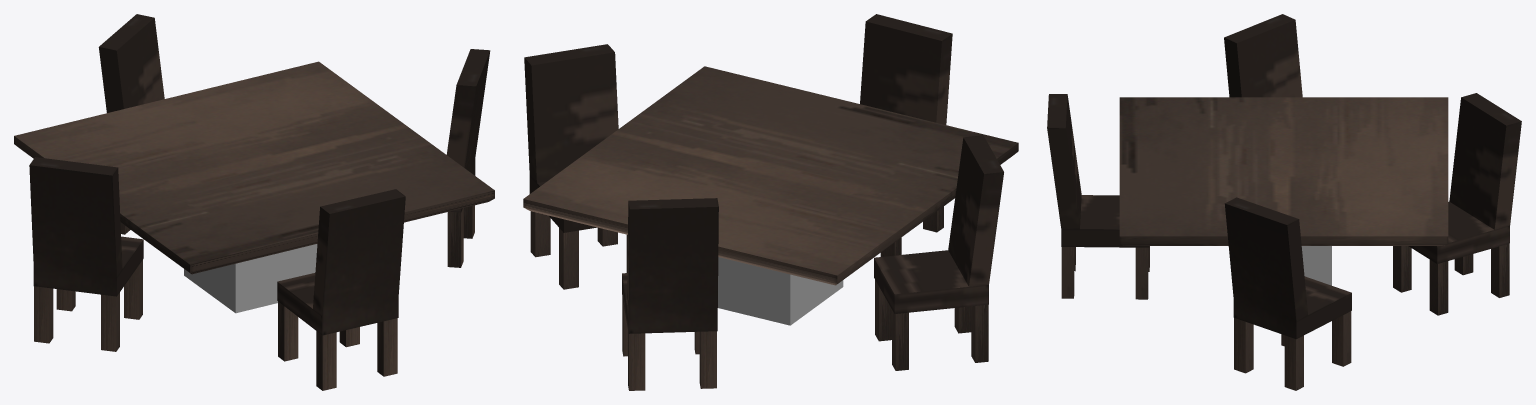
File: BarTable_Unwrapped.fbx
The picture shows the model from 3 angles, left to right: view 1: azimuth 30°, elevation 25°; view 2: azimuth 150°, elevation 25°; view 3: azimuth 270°, elevation 25°; orthographic projection. The views are drawn at different scales.
Parts seen in each view (by area): view 1: BarTable1; view 2: BarTable1; view 3: BarTable1.
Part boxes in pixels (x1,y1,x2,y2): BarTable1: (14,14,494,390); BarTable1: (523,14,1018,390); BarTable1: (1047,14,1521,390).
Bounding box in the file's own units: 152 × 57.29 × 144.
